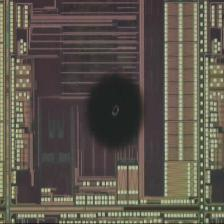PARTICLE: (84, 71, 147, 156)
